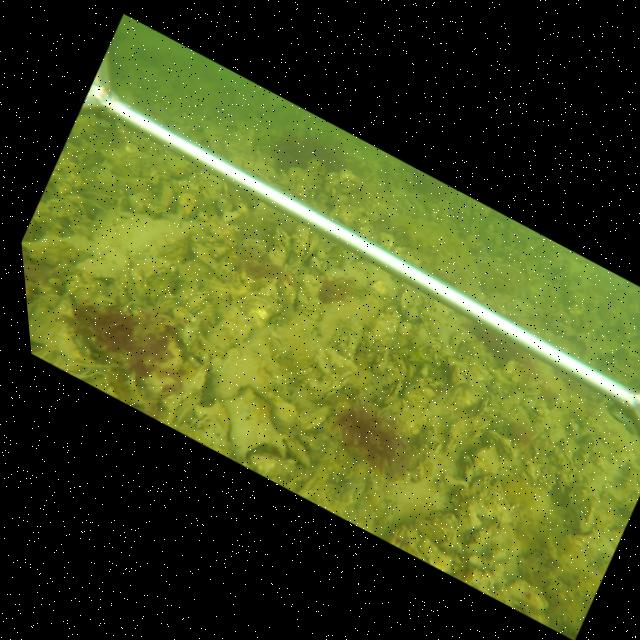Oyster-Closed: (441, 412, 492, 456), (140, 260, 181, 303), (247, 451, 297, 477), (316, 368, 354, 401), (470, 444, 500, 479), (270, 224, 292, 266), (182, 289, 214, 313)
Oyster-Indeterminate: (203, 304, 253, 353), (389, 405, 430, 437), (399, 286, 413, 317)
Oyster-Open: (289, 224, 319, 262), (381, 381, 403, 404), (409, 382, 438, 397)
